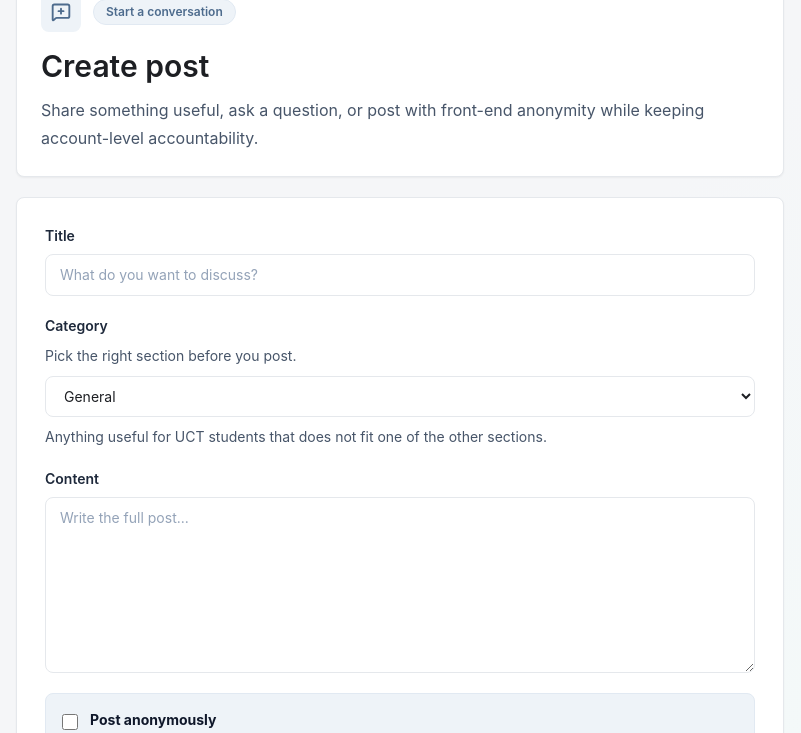
CreatePostPage › keeps the form and shows validation for a blank title
Type "A useful campus post" into the text box labelled "Content".
click(400, 585); type("A useful campus post")  # box [45,497,755,673]
(page scrolled)
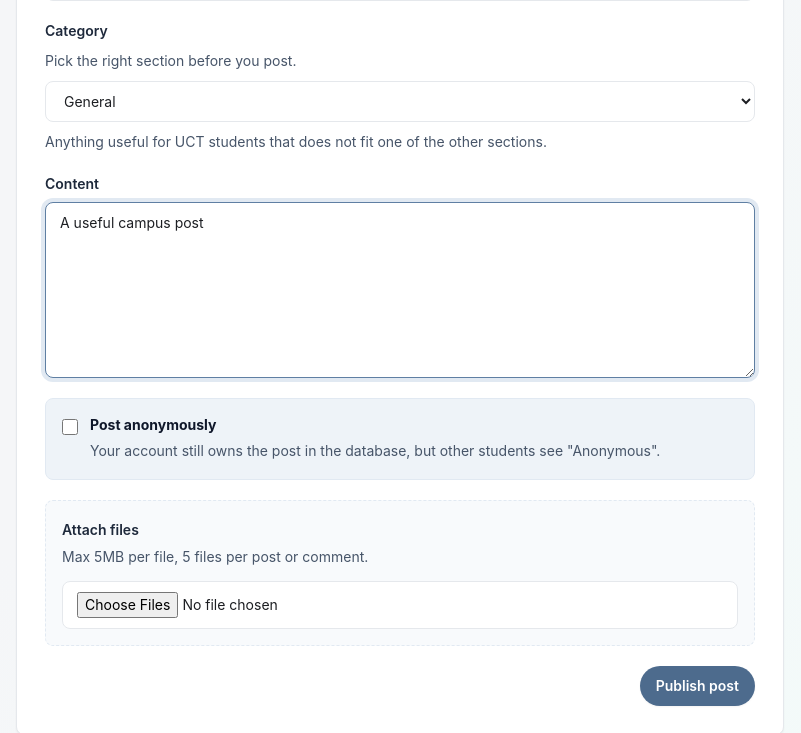
Click the button "Publish post".
click(697, 686)  # box [640,666,755,706]
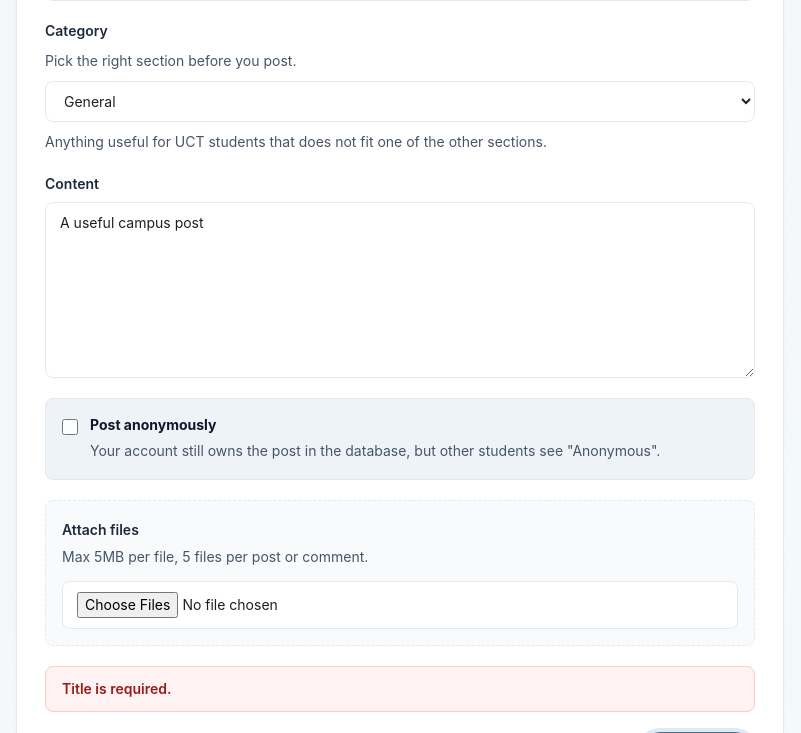
Check: the text "Title is required." is shown, box [45,666,755,712]
